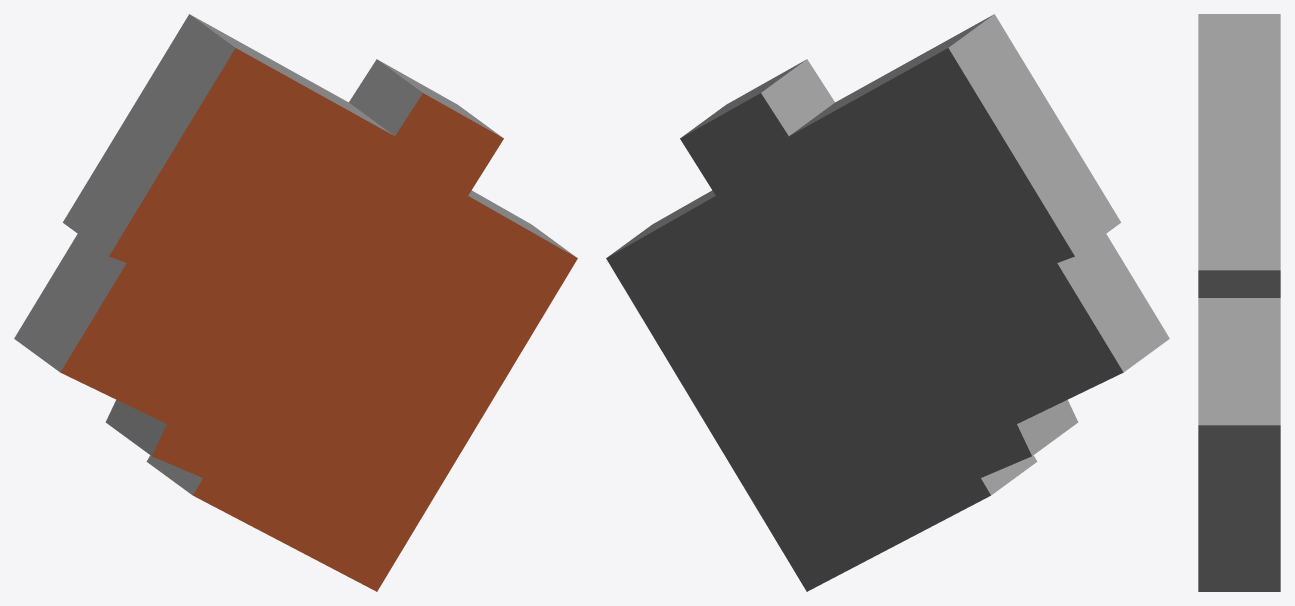
File: construction_5112_assumed_A_Casa_h6m.obj
The picture shows the model from 3 angles, left to right: view 1: azimuth 30°, elevation 25°; view 2: azimuth 150°, elevation 25°; view 3: azimuth 270°, elevation 25°; orthographic projection. The views are drawn at different scales.
Visible parts, largest first — view 1: construction_5112_assumed_A_Casa; view 2: construction_5112_assumed_A_Casa; view 3: construction_5112_assumed_A_Casa.
Part boxes in pixels (x1=…): construction_5112_assumed_A_Casa: x1=14, y1=14, x2=577, y2=591; construction_5112_assumed_A_Casa: x1=606, y1=14, x2=1169, y2=591; construction_5112_assumed_A_Casa: x1=1198, y1=14, x2=1280, y2=591.
Bounding box in the file's own units: 38.74 × 41.38 × 6.
